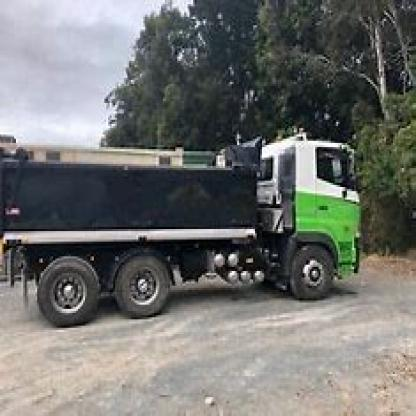dump_truck: (6, 126, 366, 322)
